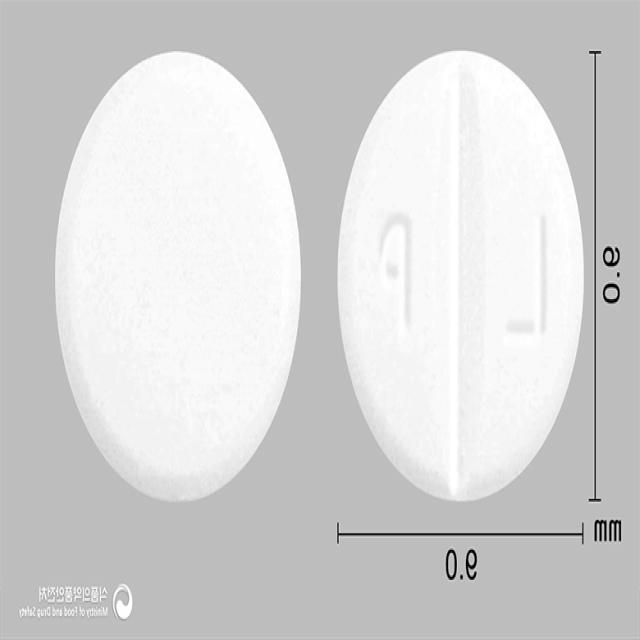Ciptec: (336, 47, 584, 502), (54, 48, 302, 500)
